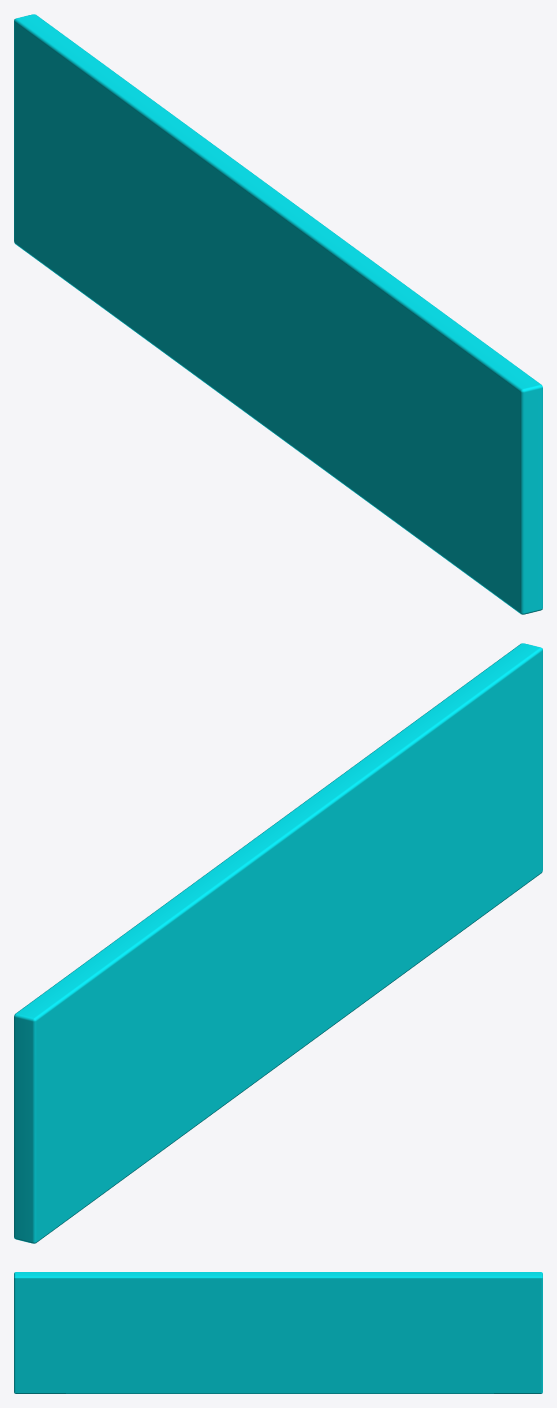
The model's file is aero_diffuser_vortex_strake_03.glb.
3 views of the same model, one above another, from view 1: azimuth 30°, elevation 25°; view 2: azimuth 150°, elevation 25°; view 3: azimuth 270°, elevation 25° (orthographic). The views are drawn at different scales.
Visible parts, largest first — view 1: AERO_Diffuser_Vortex_Strake_03; view 2: AERO_Diffuser_Vortex_Strake_03; view 3: AERO_Diffuser_Vortex_Strake_03.
Boxes of the visible parts, x1,y1,x2,y2 form: AERO_Diffuser_Vortex_Strake_03: (14,14,542,614); AERO_Diffuser_Vortex_Strake_03: (14,643,542,1243); AERO_Diffuser_Vortex_Strake_03: (14,1272,542,1393).
Bounding box in the file's own units: 0.025 × 0.24 × 0.98.
